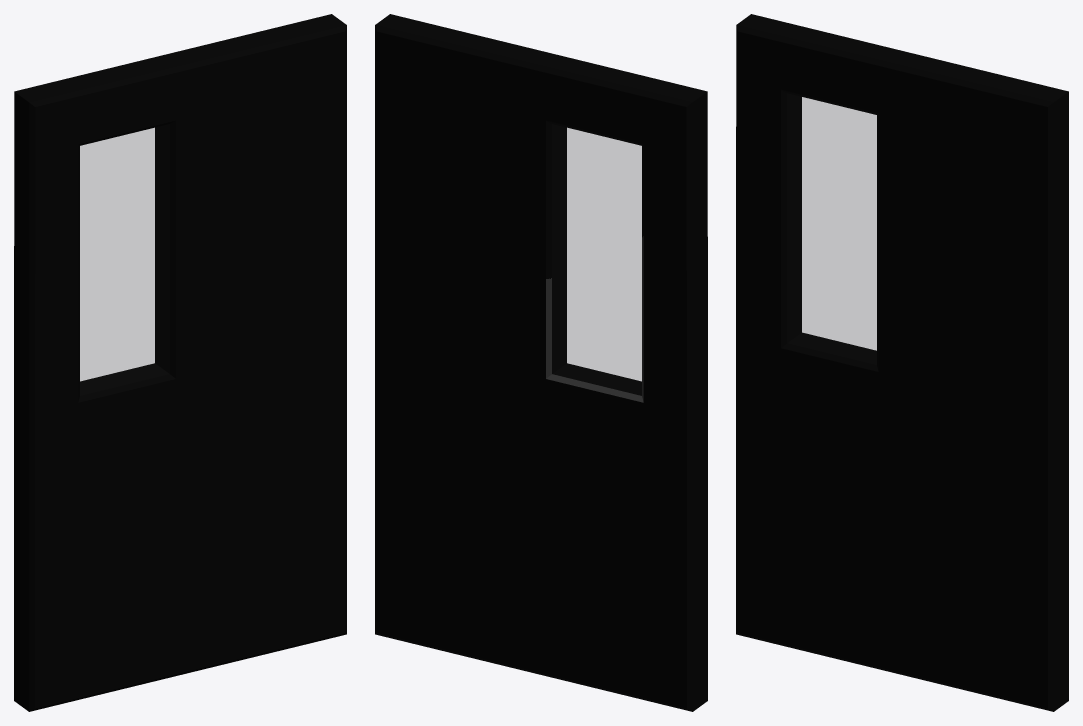
The model's file is HallwayTestDoorFBX.fbx.
The picture shows the model from 3 angles, left to right: view 1: azimuth 30°, elevation 25°; view 2: azimuth 150°, elevation 25°; view 3: azimuth 330°, elevation 25°; orthographic projection.
Visible parts, largest first — view 1: HallwayDoor0; view 2: HallwayDoor0; view 3: HallwayDoor0.
Part boxes in pixels (x1,y1,x2,y2): HallwayDoor0: [14, 14, 346, 711]; HallwayDoor0: [375, 14, 707, 711]; HallwayDoor0: [736, 14, 1068, 711].
Bounding box in the file's own units: 300 × 550 × 31.79.
